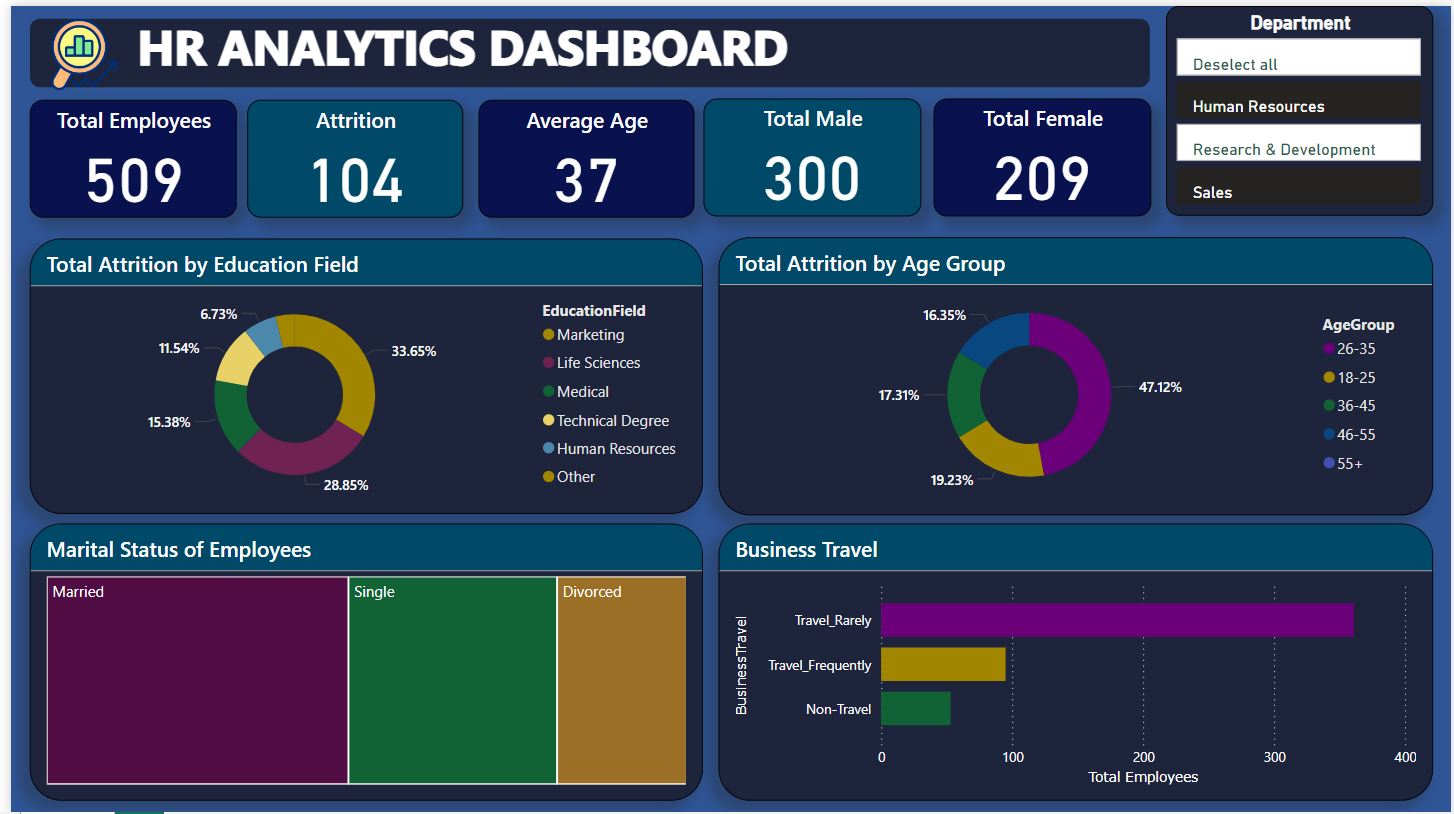

The page's visual inventory and layout, read from the dashboard file:
{"tool":"powerbi","page":{"name":"Page 1","canvas":[1280,720],"ordinal":0},"visuals":[{"type":"card","title":"Average Age","fields":{"Values":["HR_Analytics.Average Age"]},"box":[415,83.3,191.7,105],"z":0},{"type":"card","title":"Total Employees","fields":{"Values":["HR_Analytics.Total Employees"]},"box":[16.2,83.8,183.8,105],"z":1000},{"type":"card","title":"Attrition","fields":{"Values":["HR_Analytics.Total Attrition"]},"box":[210,83.3,191.7,105],"z":2000},{"type":"advancedSlicerVisual","fields":{"Values":["HR_Analytics.Department"]},"box":[1026.2,0,237.5,186.2],"z":3000},{"type":"card","title":"Total Male","fields":{"Values":["HR_Analytics.Total Male"]},"box":[615,81.7,193.3,105],"z":4000},{"type":"card","title":"Total Female","fields":{"Values":["HR_Analytics.Total Female"]},"box":[820,81.7,193.3,105],"z":5000},{"type":"shape","box":[17.1,11.4,995.7,61.4],"z":6000},{"type":"textbox","box":[30,1.4,742.9,82.9],"z":7000},{"type":"image","box":[17.1,7.1,97.1,72.9],"z":8000},{"type":"donutChart","title":"Total Attrition by Education Field","fields":{"Category":["HR_Analytics.EducationField"],"Y":["HR_Analytics.Total Attrition"]},"box":[16.2,206.2,598.8,245],"z":9000},{"type":"donutChart","title":"Total Attrition by Age Group","fields":{"Y":["HR_Analytics.Total Attrition"],"Category":["HR_Analytics.AgeGroup"]},"box":[628.8,205,635,247.5],"z":10000},{"type":"treemap","title":"Marital Status of Employees","fields":{"Group":["HR_Analytics.MaritalStatus"],"Values":["HR_Analytics.Total Employees"]},"box":[16.2,460,598.8,246.2],"z":11000},{"type":"clusteredBarChart","title":"Business Travel","fields":{"Category":["HR_Analytics.BusinessTravel"],"Y":["HR_Analytics.Total Employees"]},"box":[628.3,460,635,246.7],"z":12000}]}

Visuals, with their boxes in screenshot pixels (x1, y1, x2, y2), scaled from the page's 1280x720 canvas onto the 1454x814 screenshot:
"Average Age" card: crop(471, 94, 689, 213)
"Total Employees" card: crop(18, 95, 227, 213)
"Attrition" card: crop(239, 94, 456, 213)
advancedSlicerVisual - HR_Analytics.Department: crop(1166, 0, 1435, 211)
"Total Male" card: crop(699, 92, 918, 211)
"Total Female" card: crop(931, 92, 1151, 211)
shape: crop(19, 13, 1150, 82)
textbox: crop(34, 2, 878, 95)
image: crop(19, 8, 130, 90)
"Total Attrition by Education Field" donutChart: crop(18, 233, 699, 510)
"Total Attrition by Age Group" donutChart: crop(714, 232, 1436, 512)
"Marital Status of Employees" treemap: crop(18, 520, 699, 798)
"Business Travel" clusteredBarChart: crop(714, 520, 1435, 799)
